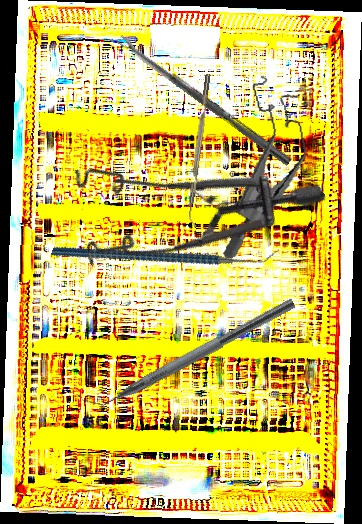Chopper: (50, 170, 280, 334), (79, 283, 297, 421), (184, 73, 218, 228)
Speculum: (42, 62, 329, 328), (191, 69, 327, 260)
Surgical Spoon: (116, 33, 293, 167)
